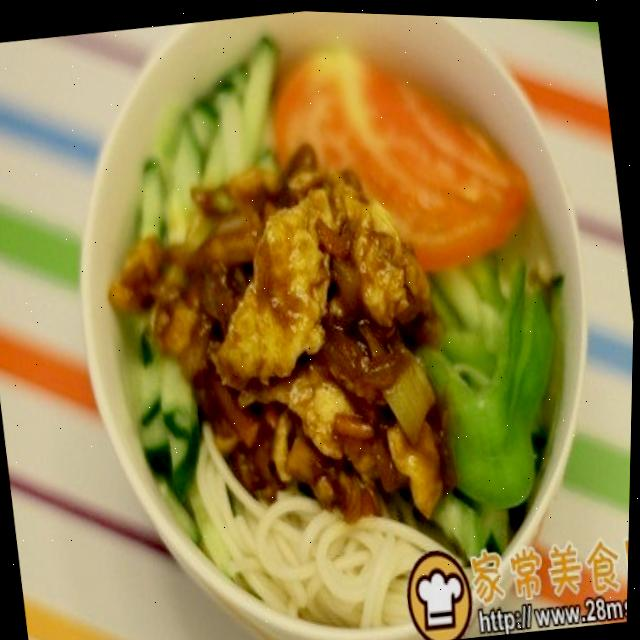面条主食: (37, 1, 639, 640)
